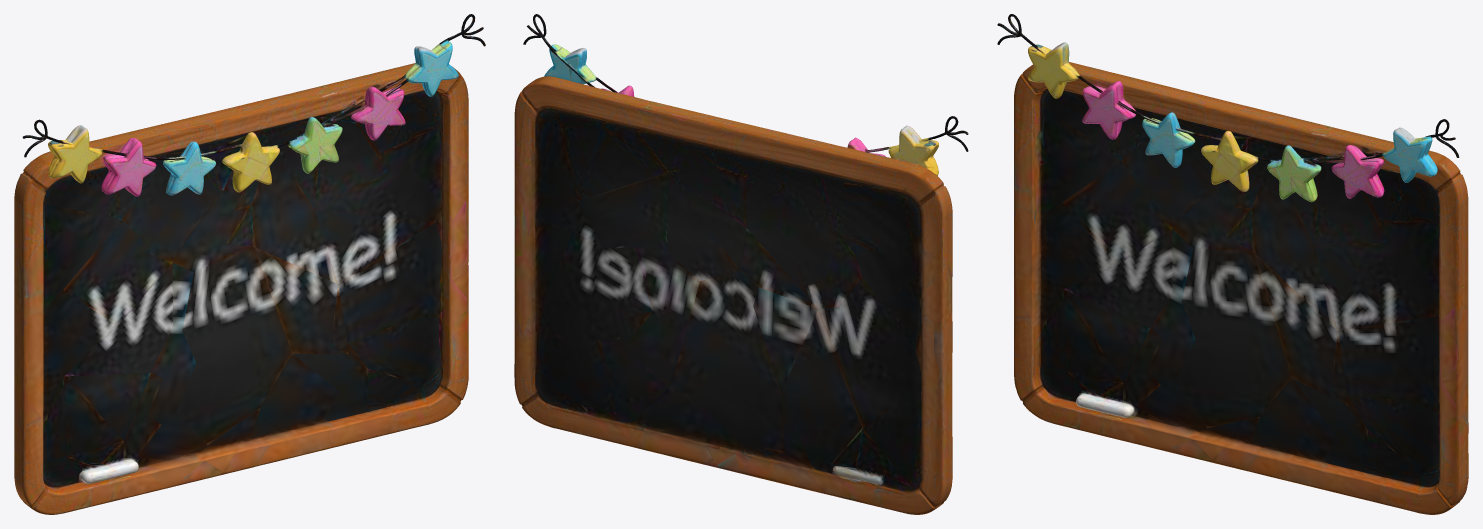
3 renders of one model, left to right at view 1: azimuth 30°, elevation 25°; view 2: azimuth 150°, elevation 25°; view 3: azimuth 330°, elevation 25°, orthographic. The views are drawn at different scales.
Size of the model in its own units: 1.9 by 1.61 by 0.1462.
1 material, 1 textured.
